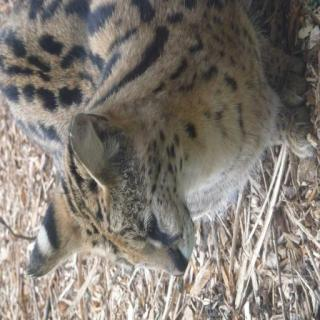Leopard: (17, 6, 273, 283)
